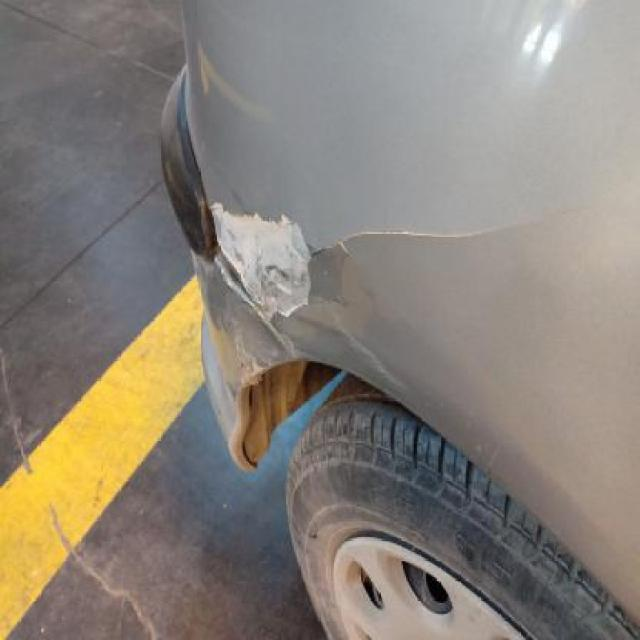car damage: (278, 239, 389, 349), (321, 207, 537, 263)
